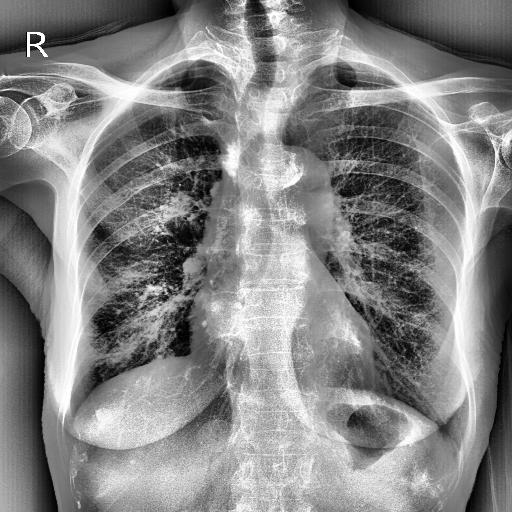0- Aortic enlargement: (238, 142, 336, 214), (260, 145, 334, 220), (264, 146, 337, 222)
12- Pneumothorax: (232, 19, 287, 140)
7- Lung Opacity: (70, 256, 108, 296)
9- Other lesion: (232, 19, 287, 140), (235, 56, 284, 168)
